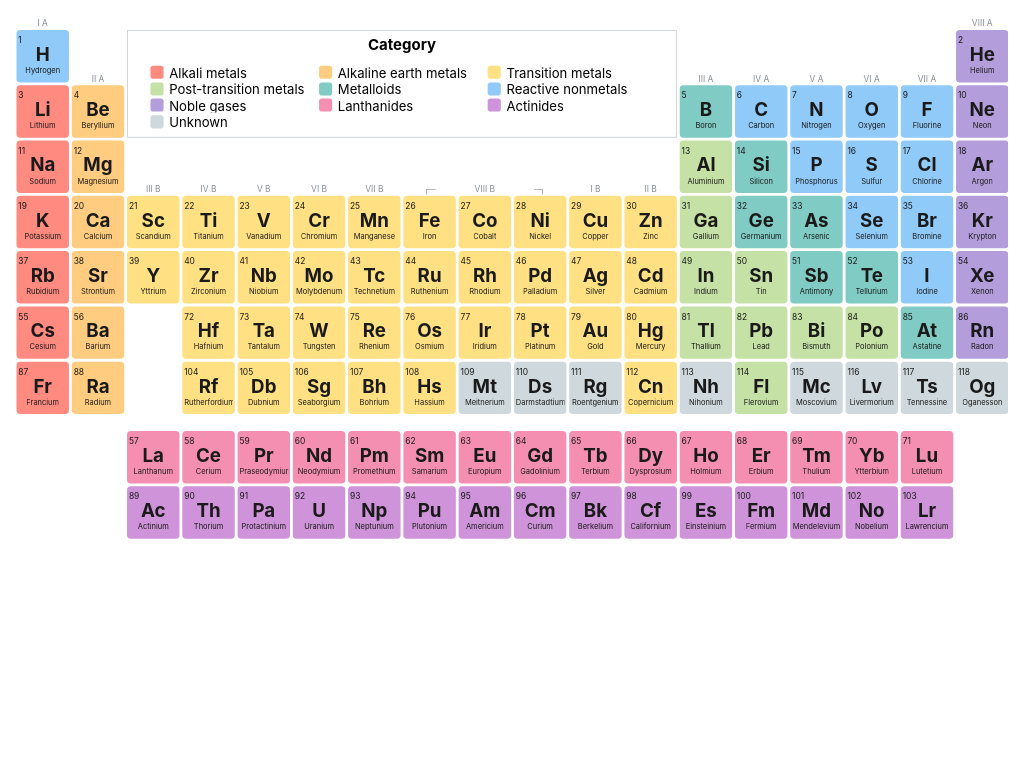
Test: PeriodicTable selection after scaling › opens the detail view when a cell is clicked
The width and height of the screenshot is (1024, 768).
Click the button "6 C Carbon": [761, 112] box x1=734 y1=85 x2=787 y2=138
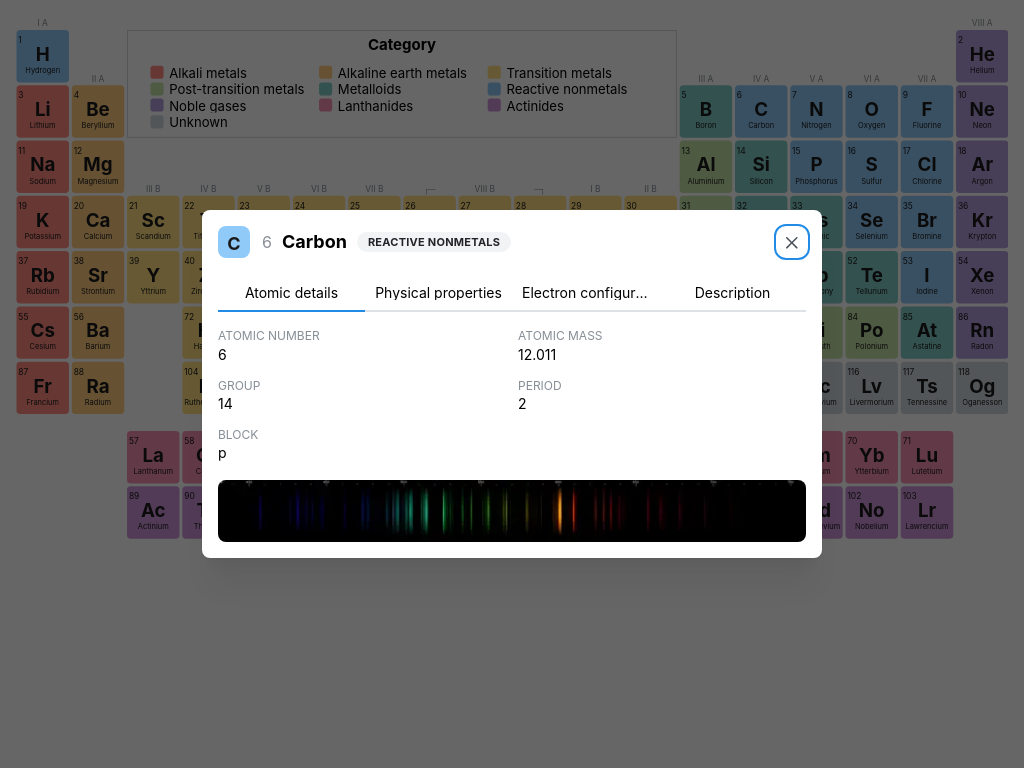
Now the heading "Carbon" is shown, box x1=282 y1=229 x2=347 y2=256
Now the 2nd text "C" is shown, box x1=227 y1=231 x2=241 y2=253
Now the text "12.011" is shown, box x1=518 y1=346 x2=556 y2=363
